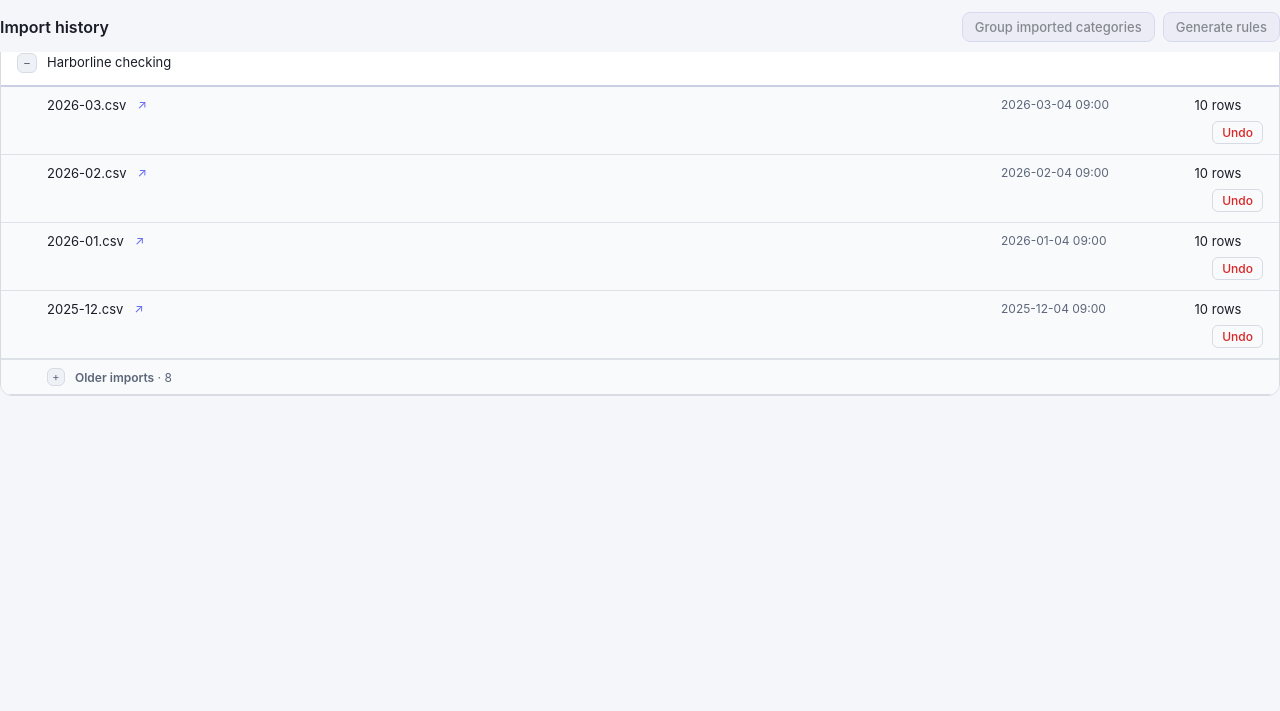
Test: an expanded data source with years of imports › collapses a year without closing the archive
Click the button "+ Older imports · 8": (92, 377) [1,360,1279,394]
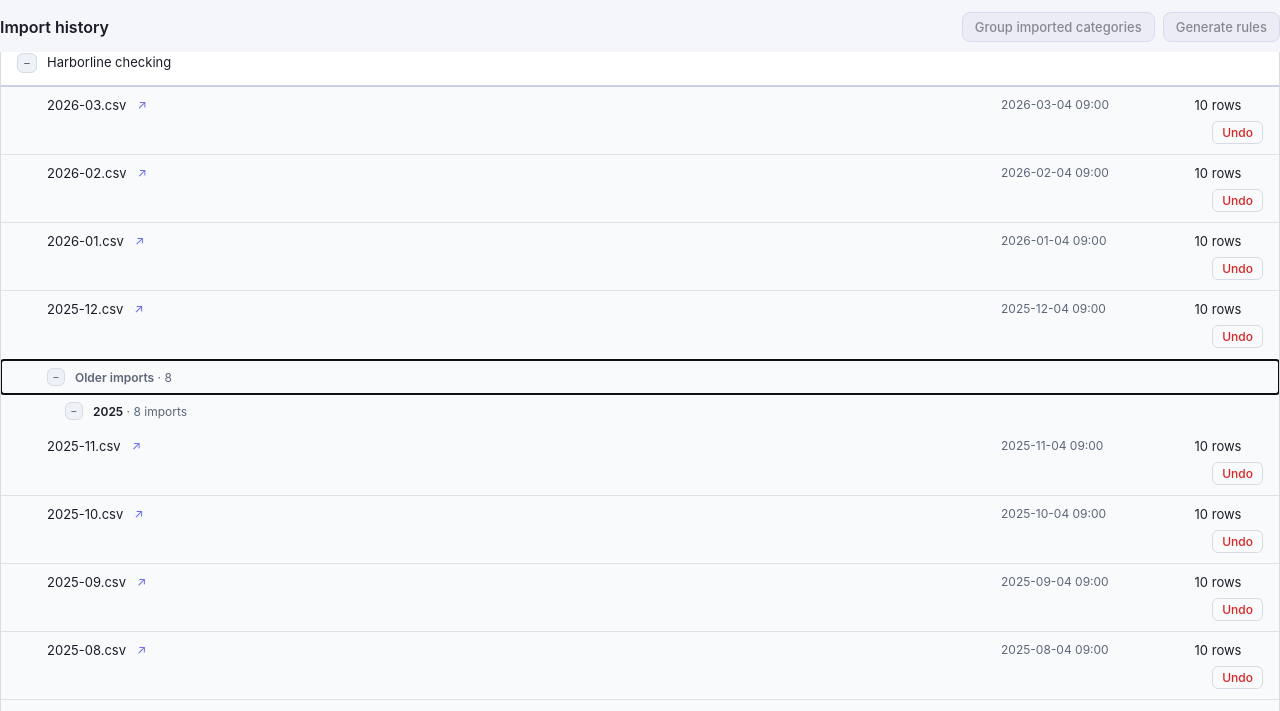
Click the button "− 2025 · 8 imports": (108, 411) [1,394,1279,428]
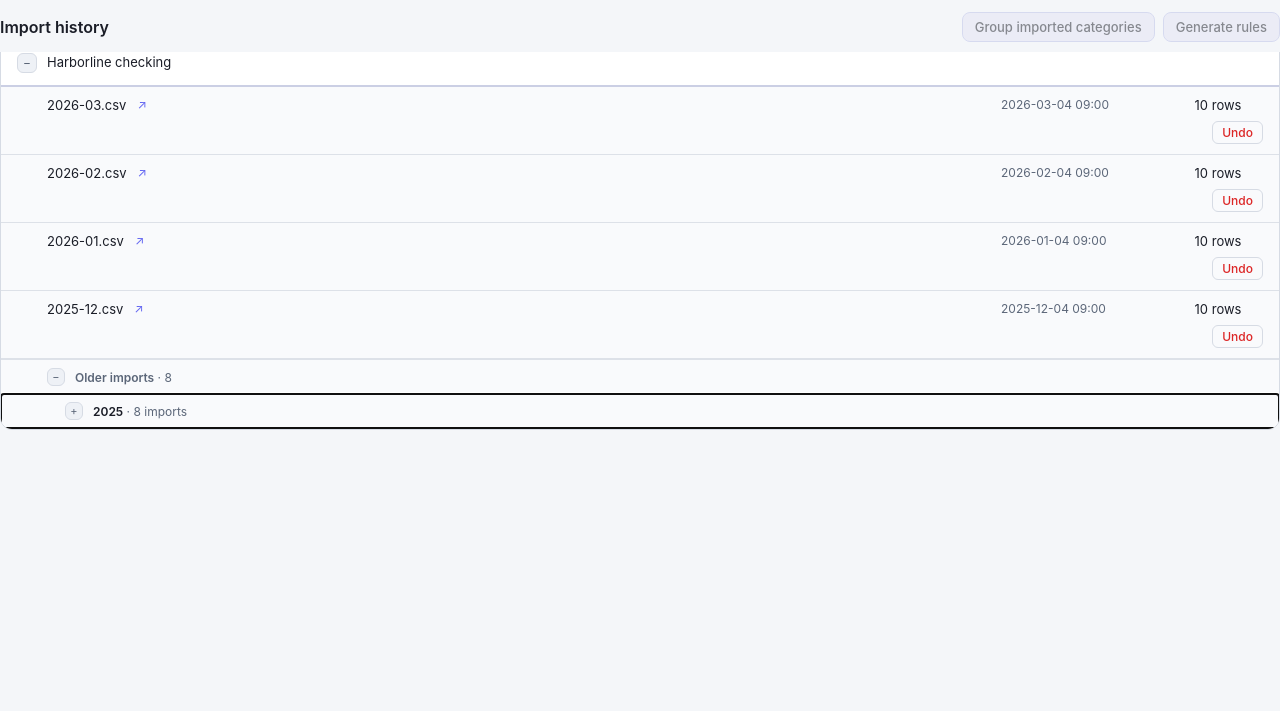
Now the button "+ 2025 · 8 imports" is shown, box [1,394,1279,428]
Now the text "2025-11.csv" is gone
